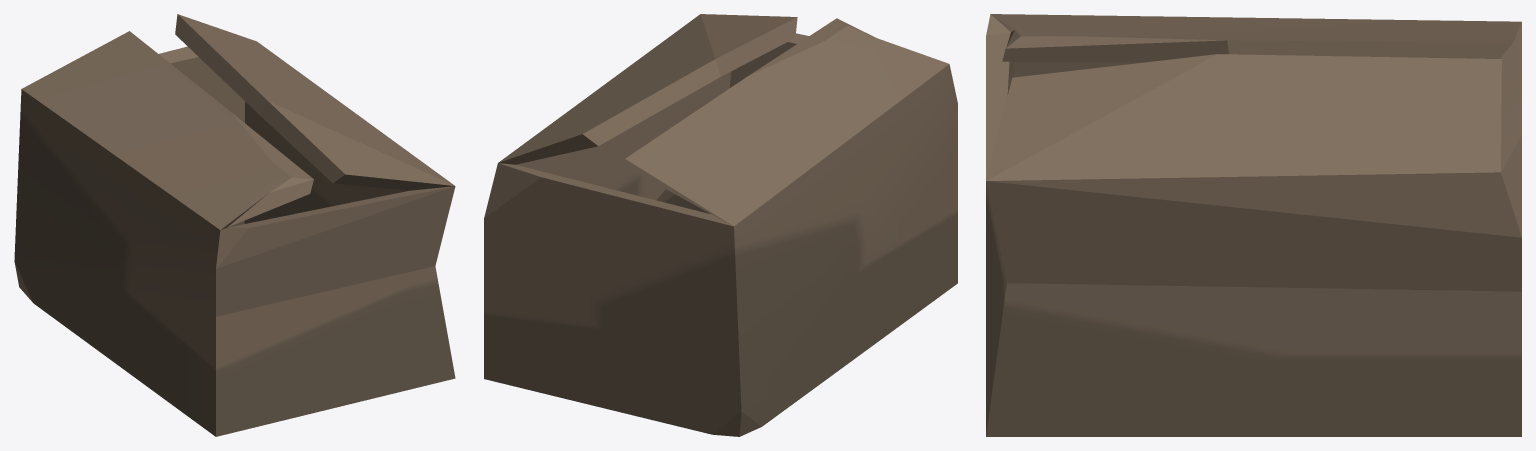
The model's file is SM_Prop_CardboardBox_03_703.obj.
3 renders of one model, left to right at view 1: azimuth 30°, elevation 25°; view 2: azimuth 150°, elevation 25°; view 3: azimuth 270°, elevation 25°, orthographic. The views are drawn at different scales.
Visible parts, largest first — view 1: SM_Prop_CardboardBox_03_0; view 2: SM_Prop_CardboardBox_03_0; view 3: SM_Prop_CardboardBox_03_0.
Boxes of the visible parts, box(x1,y1,x2,y2) form: SM_Prop_CardboardBox_03_0: box(14, 14, 455, 436); SM_Prop_CardboardBox_03_0: box(484, 14, 957, 436); SM_Prop_CardboardBox_03_0: box(986, 14, 1521, 436).
Size of the model in its own units: 0.5 by 0.4847 by 0.7282.
Materials: 1 (1 with a texture image).
